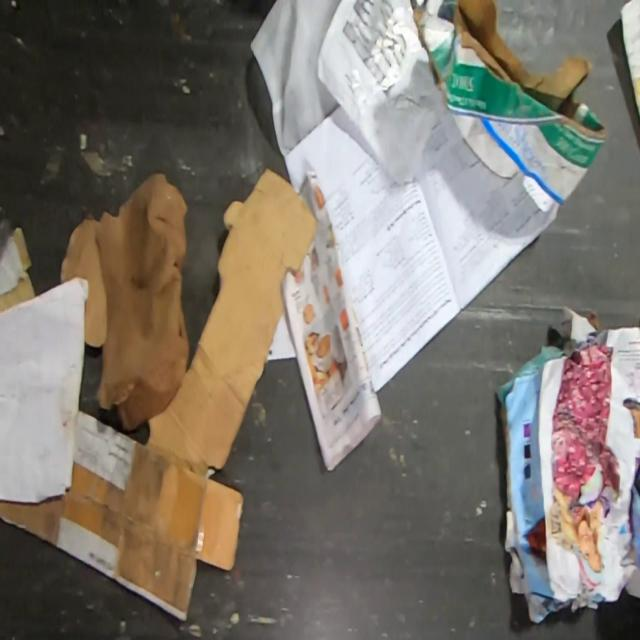cardboard: (147, 164, 320, 481), (0, 406, 247, 623), (408, 0, 610, 216), (0, 280, 88, 503), (0, 216, 36, 313)
